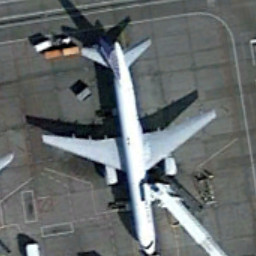Airplane: (36, 28, 224, 256)
